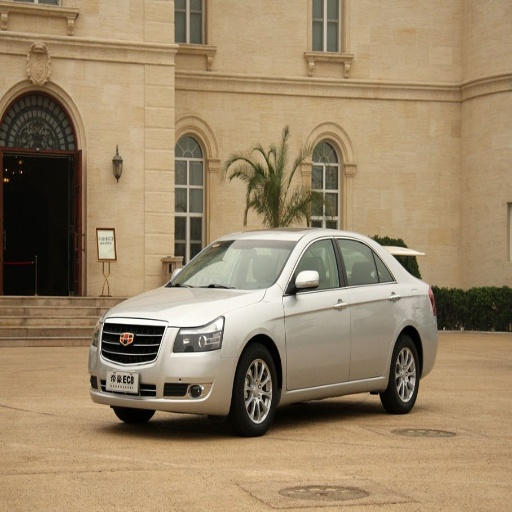front_bumper: (87, 314, 241, 413)
front_glass: (167, 239, 295, 288)
front_left_door: (285, 237, 350, 388)
trunk: (2, 37, 414, 167)
